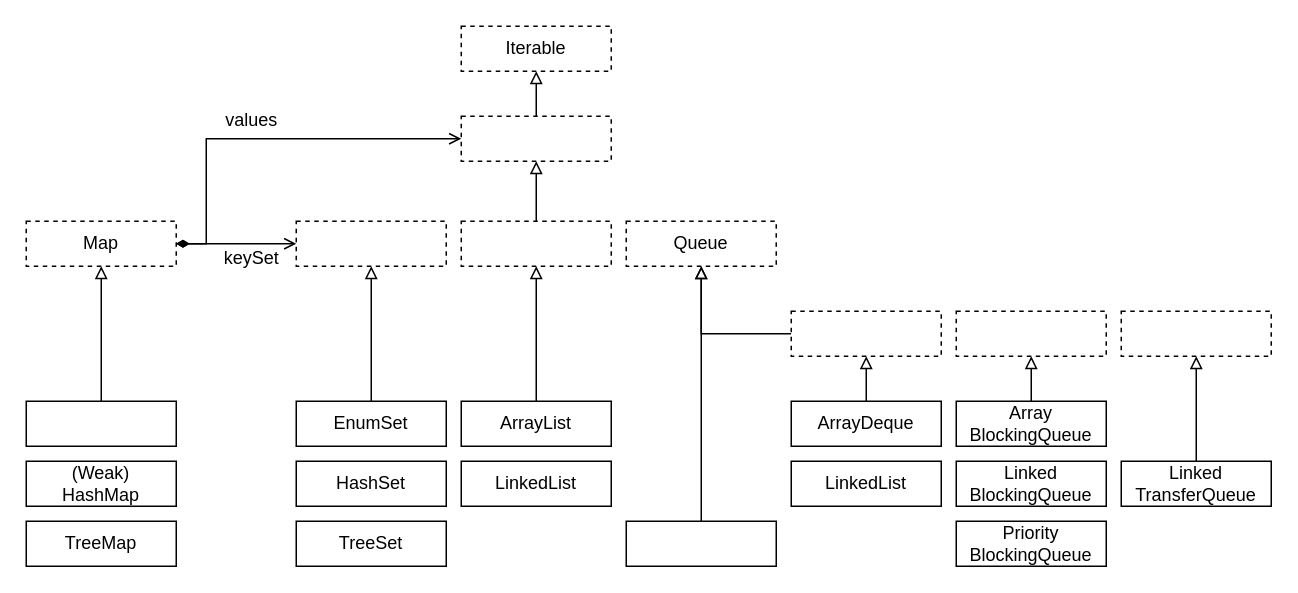
Image size: 1298x593. Some labels were removed from this diagram. Here are the shapes that lost their labels. From the top down, the centre of each, then its label:
At point 535,138: "Collection".
At point 370,243: "Set".
At point 535,243: "List".
At point 865,333: "Deque".
At point 1030,333: "BlockingQueue".
At point 1195,333: "TransferQueue".
At point 100,423: "EnumMap".
At point 700,543: "PriorityQueue".
